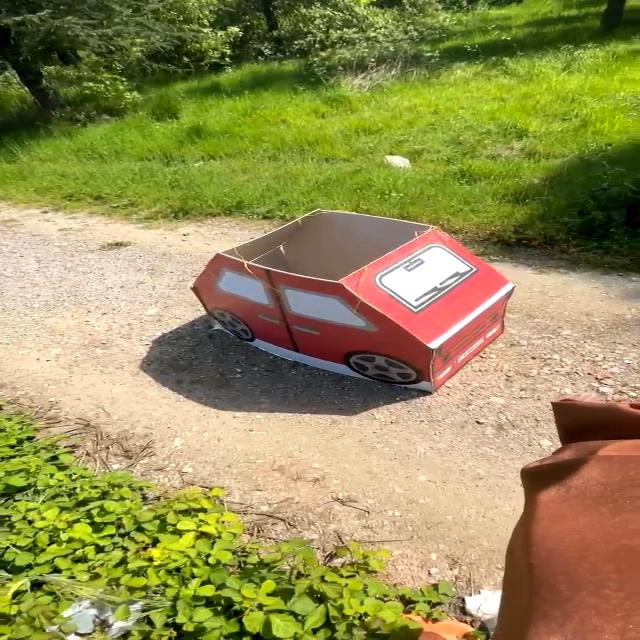red_car: (162, 200, 540, 411)
